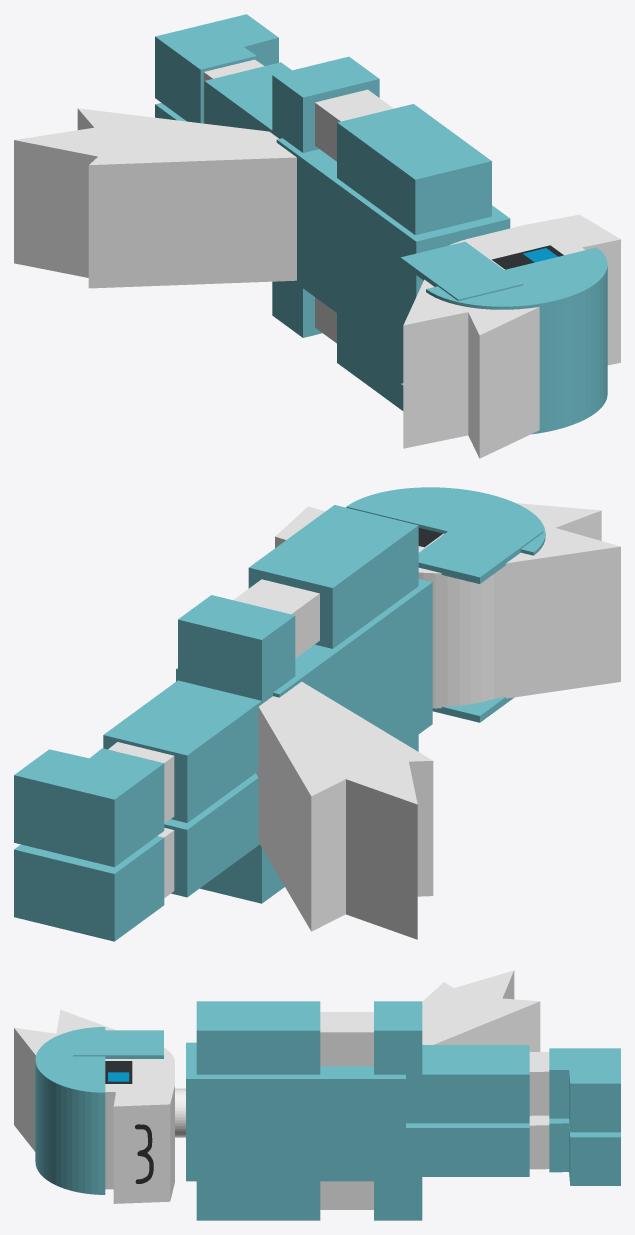
Rendered from tinker.obj.
The picture shows the model from 3 angles, top to bottom: view 1: azimuth 30°, elevation 25°; view 2: azimuth 150°, elevation 25°; view 3: azimuth 270°, elevation 25°; orthographic projection. The views are drawn at different scales.
Visible parts, largest first — view 1: obj_0, obj_7, obj_8, obj_10, obj_15, obj_16, obj_12, obj_20, obj_13, obj_9, obj_3, obj_11 (+3 smaller); view 2: obj_0, obj_7, obj_16, obj_10, obj_8, obj_13, obj_17, obj_12, obj_14, obj_20, obj_15, obj_3 (+3 smaller); view 3: obj_8, obj_7, obj_15, obj_13, obj_10, obj_0, obj_14, obj_16, obj_9, obj_17, obj_12, obj_3 (+8 smaller).
Boxes of the visible parts, bbox=[...] form: obj_0: bbox=[14, 108, 296, 288]; obj_7: bbox=[403, 214, 620, 458]; obj_8: bbox=[276, 138, 510, 361]; obj_10: bbox=[337, 104, 491, 234]; obj_15: bbox=[426, 247, 607, 434]; obj_16: bbox=[155, 14, 278, 123]; obj_12: bbox=[272, 56, 379, 152]; obj_20: bbox=[400, 241, 523, 391]; obj_13: bbox=[204, 62, 291, 138]; obj_9: bbox=[337, 313, 403, 410]; obj_3: bbox=[315, 89, 393, 161]; obj_11: bbox=[272, 281, 322, 337]; obj_0: bbox=[256, 681, 433, 939]; obj_7: bbox=[275, 503, 620, 708]; obj_16: bbox=[14, 748, 164, 867]; obj_10: bbox=[248, 505, 418, 648]; obj_8: bbox=[176, 579, 432, 743]; obj_13: bbox=[103, 680, 272, 822]; obj_17: bbox=[14, 836, 164, 941]; obj_12: bbox=[178, 595, 295, 700]; obj_14: bbox=[164, 773, 259, 897]; obj_20: bbox=[418, 513, 543, 722]; obj_15: bbox=[346, 487, 545, 555]; obj_3: bbox=[233, 579, 319, 658]; obj_8: bbox=[186, 1042, 405, 1181]; obj_7: bbox=[14, 1009, 174, 1203]; obj_15: bbox=[35, 1027, 105, 1194]; obj_13: bbox=[406, 1045, 529, 1123]; obj_10: bbox=[196, 1001, 320, 1074]; obj_0: bbox=[422, 970, 540, 1051]; obj_14: bbox=[406, 1123, 529, 1176]; obj_16: bbox=[549, 1048, 620, 1132]; obj_9: bbox=[196, 1181, 320, 1220]; obj_17: bbox=[549, 1118, 620, 1185]; obj_12: bbox=[374, 1001, 422, 1074]; obj_3: bbox=[320, 1012, 373, 1066].
Bounding box in the file's own units: 60 × 39 × 113.
